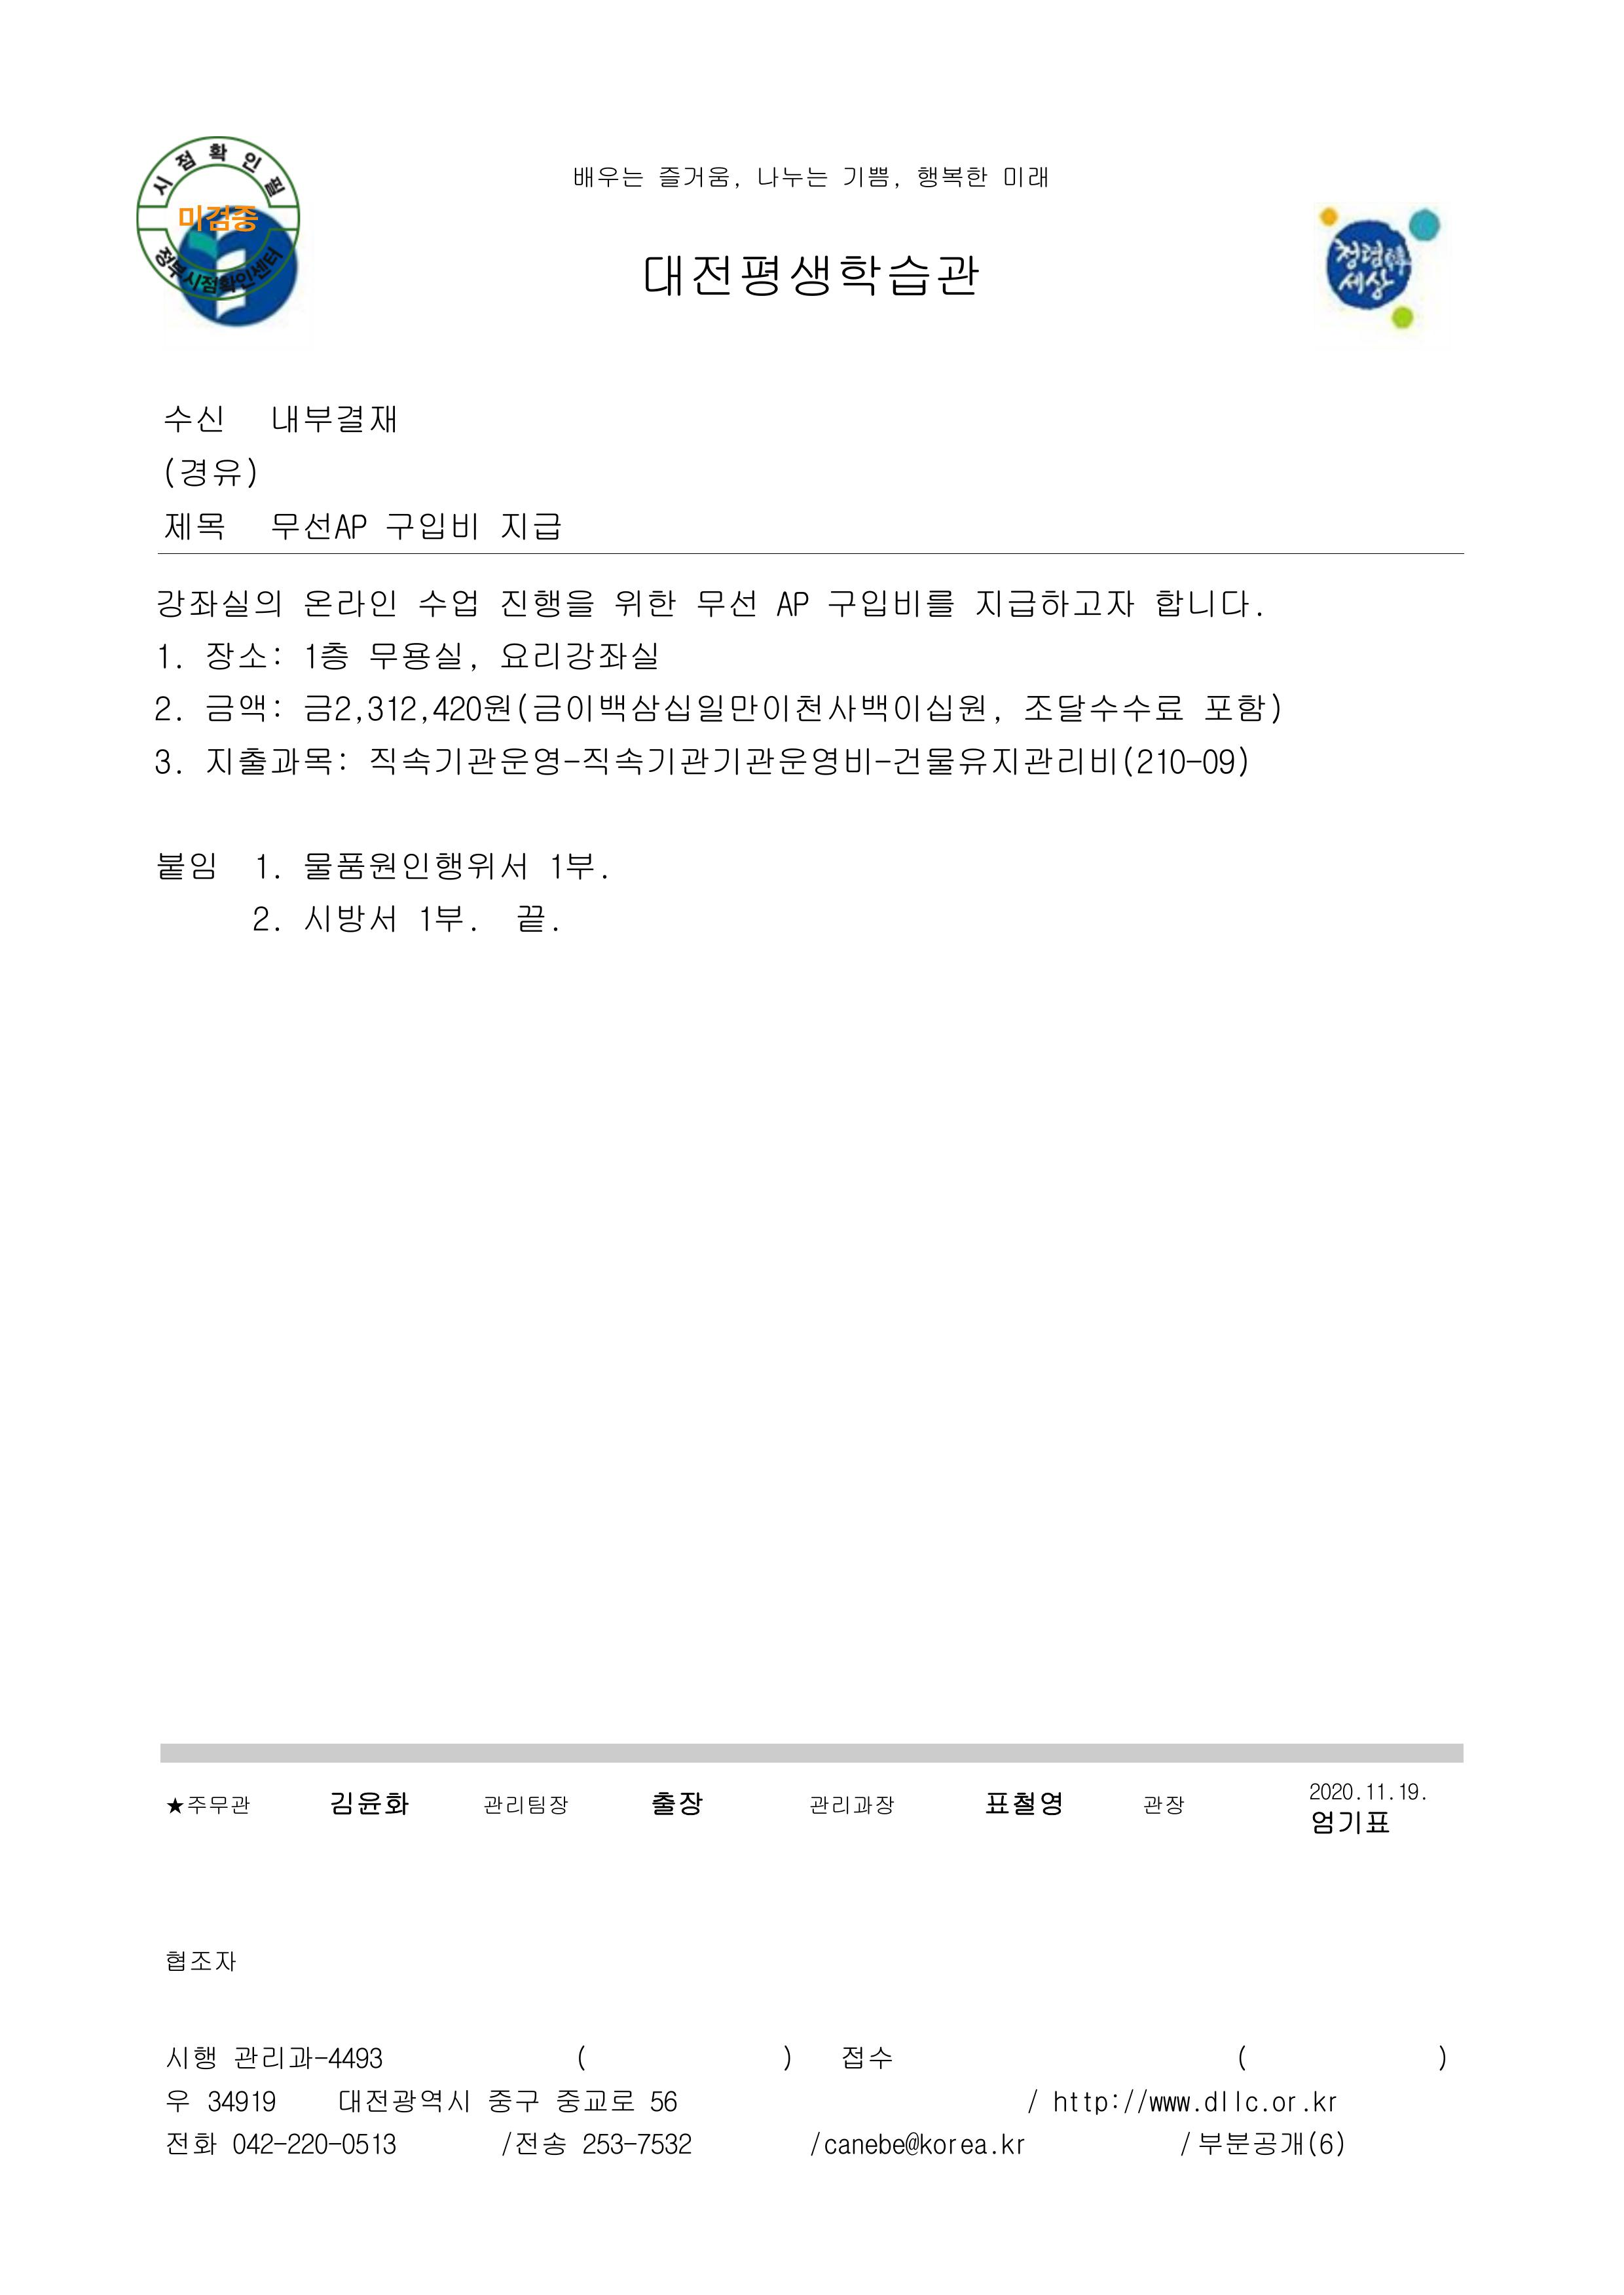t: (366, 742, 1251, 782), (301, 689, 990, 728), (642, 251, 982, 304), (301, 845, 531, 886), (1021, 689, 1186, 728), (972, 583, 1137, 620), (499, 638, 659, 673), (200, 742, 348, 778), (228, 2126, 397, 2158), (824, 583, 953, 624), (1193, 2126, 1345, 2158), (269, 401, 397, 438), (155, 583, 283, 620), (334, 2082, 473, 2116), (1151, 583, 1258, 620), (494, 583, 599, 620), (366, 638, 476, 673), (824, 2130, 961, 2158), (576, 2126, 696, 2158), (156, 455, 262, 490), (301, 583, 397, 620), (383, 510, 480, 545), (301, 900, 397, 935), (269, 510, 369, 541), (323, 1787, 411, 1822), (176, 200, 258, 237), (1200, 689, 1283, 724), (204, 638, 283, 673), (1308, 1806, 1390, 1840), (286, 2044, 383, 2072), (483, 1792, 569, 1822), (1200, 2089, 1297, 2116), (610, 583, 678, 620), (204, 691, 272, 728), (204, 2082, 279, 2116), (552, 2088, 638, 2116), (691, 583, 756, 620), (417, 583, 480, 620), (982, 1789, 1065, 1817), (162, 510, 227, 545), (1051, 2088, 1123, 2119), (566, 162, 645, 190), (656, 162, 735, 190), (752, 162, 831, 190), (162, 401, 227, 434), (545, 845, 603, 882), (914, 162, 990, 190), (169, 1792, 255, 1817), (810, 1792, 896, 1817), (155, 849, 218, 882), (499, 510, 559, 545), (494, 2130, 566, 2158), (417, 900, 473, 935), (483, 2082, 541, 2116), (835, 162, 893, 193), (228, 2040, 286, 2072), (835, 2040, 893, 2072), (301, 638, 352, 673), (165, 1951, 237, 1975), (1330, 239, 1383, 272), (649, 1785, 703, 1817), (162, 2044, 218, 2072), (1137, 2089, 1193, 2116), (165, 2133, 221, 2158), (513, 900, 552, 935), (1000, 165, 1051, 190), (773, 589, 810, 620), (1308, 1782, 1355, 1803), (645, 2088, 680, 2116), (1144, 1796, 1183, 1817), (255, 854, 283, 882), (1000, 2133, 1028, 2158), (255, 903, 276, 935), (155, 749, 176, 778), (156, 645, 179, 671), (1396, 1782, 1424, 1803), (1313, 2095, 1341, 2116), (961, 2137, 990, 2158), (156, 696, 176, 724), (1362, 1782, 1387, 1803), (169, 2089, 190, 2112)
